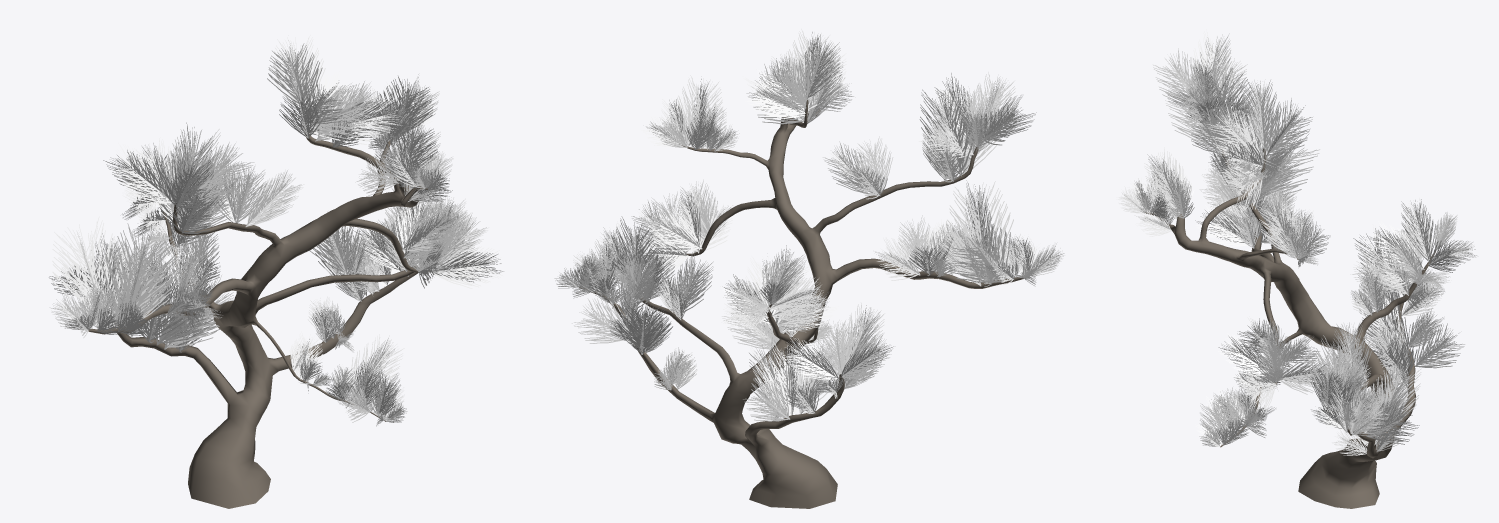
Rendered from Pine.fbx.
3 renders of one model, left to right at view 1: azimuth 30°, elevation 25°; view 2: azimuth 150°, elevation 25°; view 3: azimuth 270°, elevation 25°, orthographic. The views are drawn at different scales.
Visible parts, largest first — view 1: Tree_Pine; view 2: Tree_Pine; view 3: Tree_Pine.
Boxes of the visible parts, box(x1,y1,x2,y2) form: Tree_Pine: box(49, 35, 503, 508); Tree_Pine: box(554, 29, 1064, 508); Tree_Pine: box(1118, 29, 1476, 508).
Bounding box in the file's own units: 1140 × 1040 × 831.
